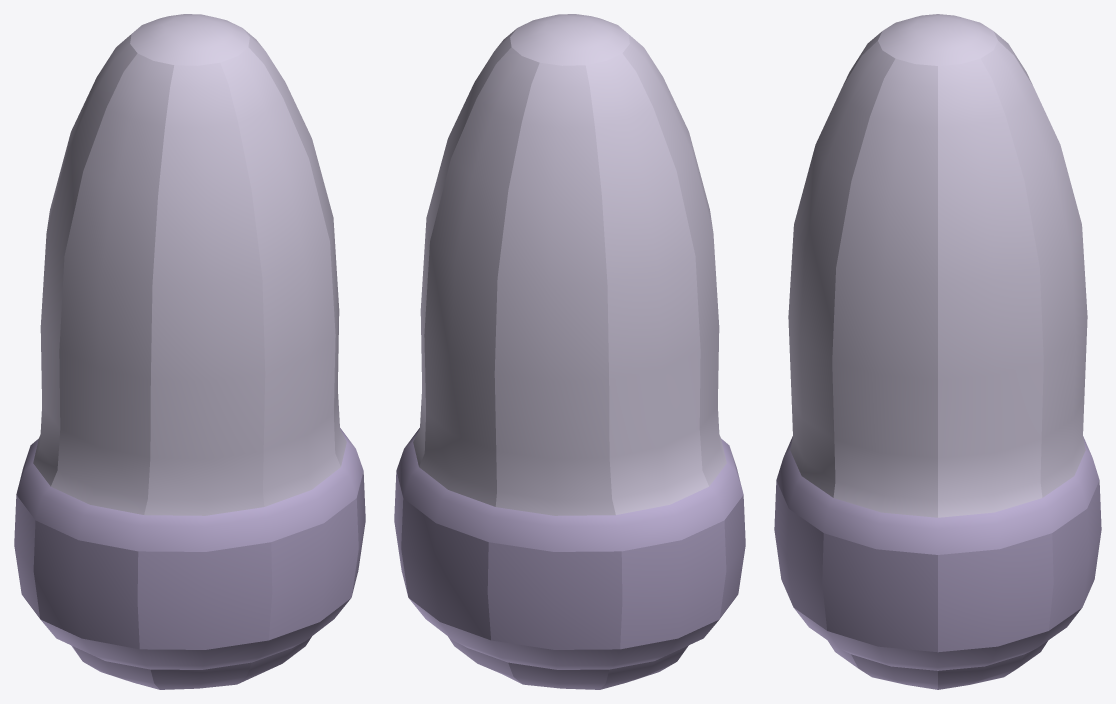
File: Bullet2.fbx
The picture shows the model from 3 angles, left to right: view 1: azimuth 30°, elevation 25°; view 2: azimuth 150°, elevation 25°; view 3: azimuth 270°, elevation 25°; orthographic projection.
Parts seen in each view (by area): view 1: Bullet2; view 2: Bullet2; view 3: Bullet2.
Boxes of the visible parts, box(x1,y1,x2,y2) form: Bullet2: box(14, 14, 365, 689); Bullet2: box(394, 14, 745, 689); Bullet2: box(774, 14, 1101, 689).
Bounding box in the file's own units: 40.77 × 79.2 × 37.16.
